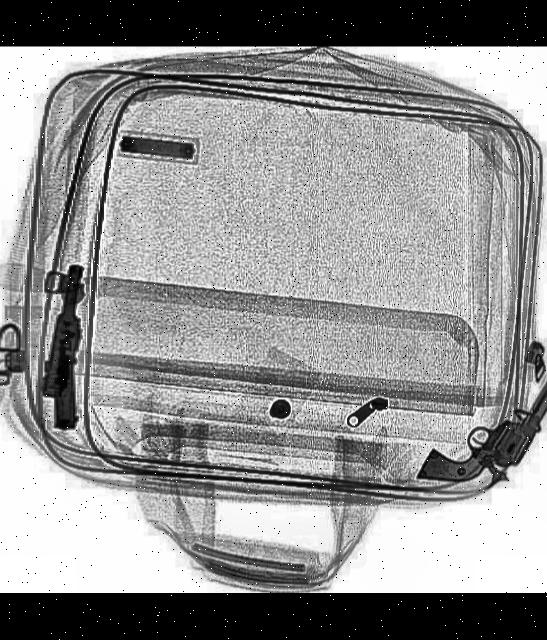Gun: (413, 304, 547, 515), (34, 264, 88, 430)
